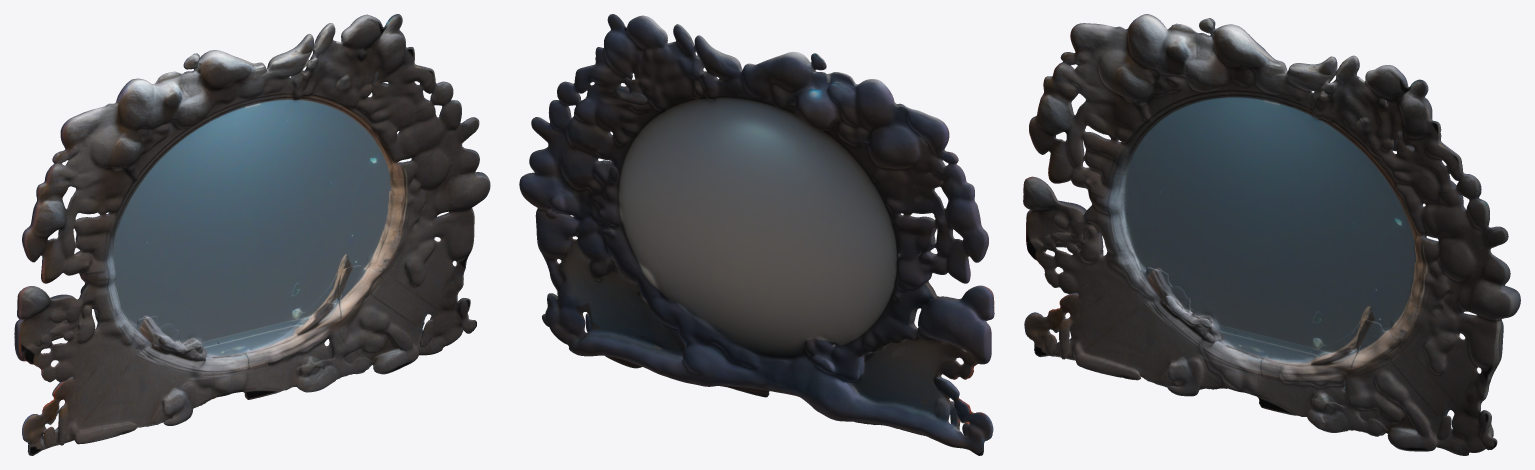
The model's file is いかにもワープ_1010092147_texture.fbx.
3 renders of one model, left to right at view 1: azimuth 30°, elevation 25°; view 2: azimuth 150°, elevation 25°; view 3: azimuth 330°, elevation 25°, orthographic. The views are drawn at different scales.
Parts seen in each view (by area): view 1: Mesh1.0; view 2: Mesh1.0; view 3: Mesh1.0.
Part boxes in pixels (x1,y1,x2,y2): Mesh1.0: (14,14,490,455); Mesh1.0: (519,14,994,455); Mesh1.0: (1023,14,1520,455).
Size of the model in its own units: 200 by 147 by 13.97.
1 material, 1 textured.
